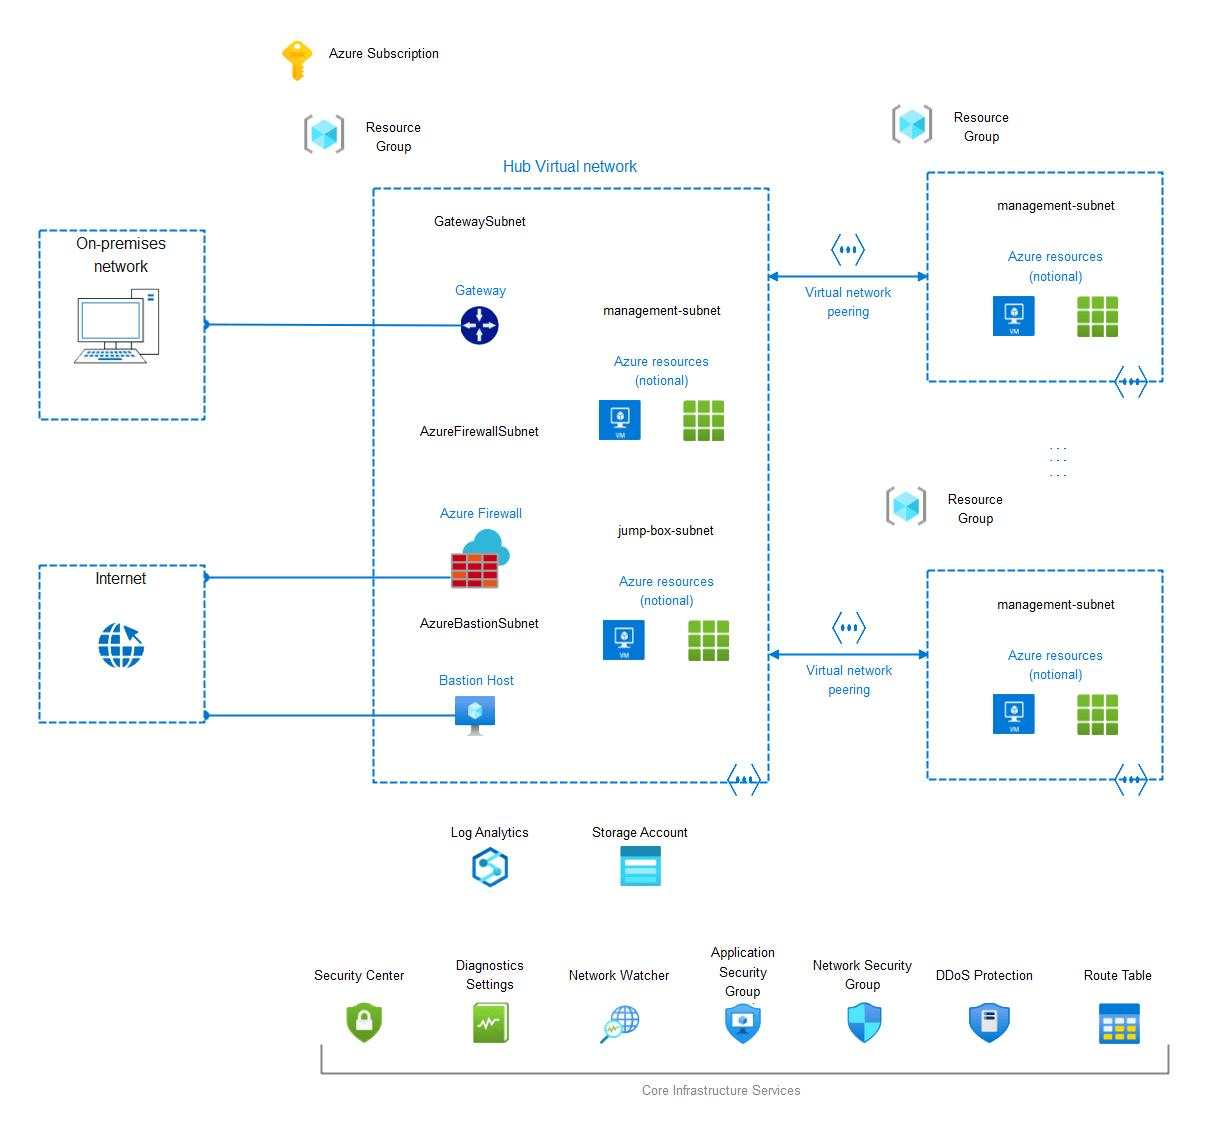Firewall: (441, 526, 514, 591)
Networking: (447, 301, 507, 349)
VPC: (450, 692, 513, 742)
